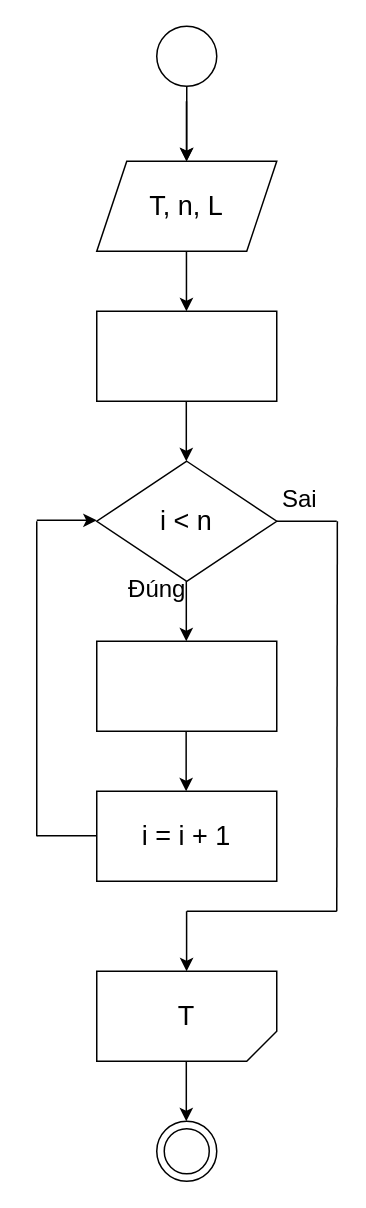
The diagram is 366 pixels wide and 1208 high, and some of its shapes have lost their labels. The centre of each missing label's shape, as x and y in pixels:
i = 0: (x=186, y=355)
T = T * (1 + L): (x=186, y=685)
